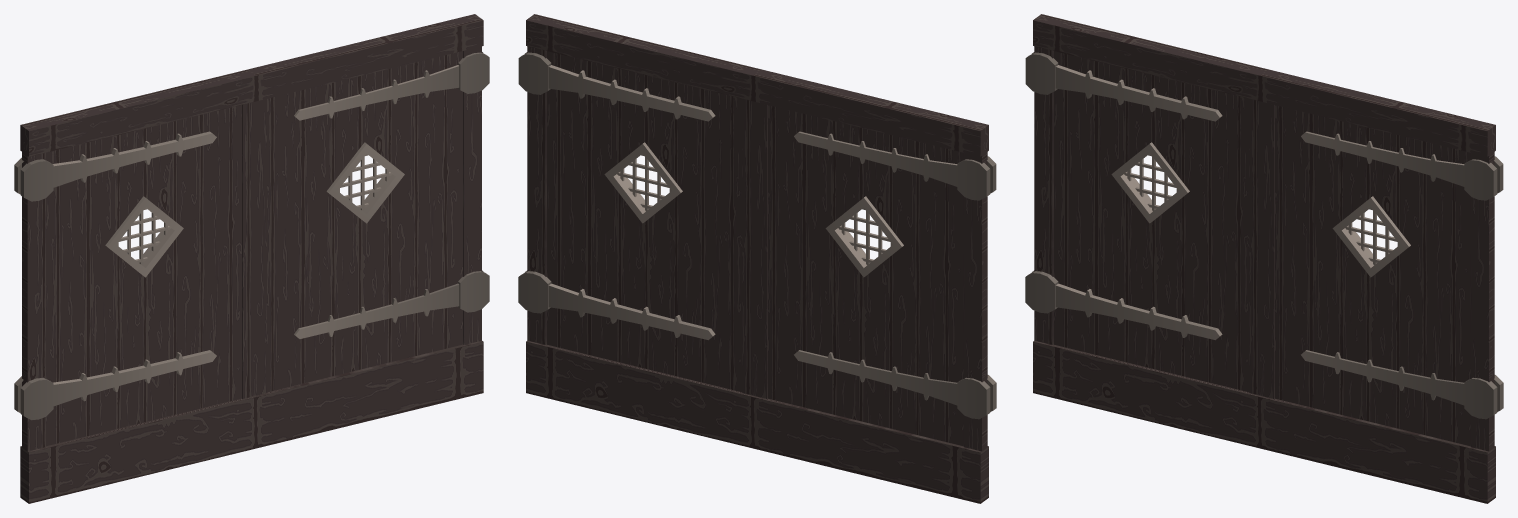
Rendered from guild_hall_doors.glb.
3 renders of one model, left to right at view 1: azimuth 30°, elevation 25°; view 2: azimuth 150°, elevation 25°; view 3: azimuth 330°, elevation 25°, orthographic.
Parts seen in each view (by area): view 1: door_left, door_left.002, door_left.001, door_left.003; view 2: door_left, door_left.002, door_left.003, door_left.001; view 3: door_left.002, door_left, door_left.001, door_left.003.
Boxes of the visible parts, <box> form: door_left: <box>20,69,256,503</box>; door_left.002: <box>248,14,483,448</box>; door_left.001: <box>14,131,216,420</box>; door_left.003: <box>294,52,489,338</box>; door_left: <box>753,69,988,503</box>; door_left.002: <box>526,14,761,448</box>; door_left.003: <box>518,52,715,340</box>; door_left.001: <box>794,131,996,419</box>; door_left.002: <box>1260,69,1495,503</box>; door_left: <box>1033,14,1268,448</box>; door_left.001: <box>1025,52,1222,340</box>; door_left.003: <box>1301,131,1503,419</box>.
Bounding box in the file's own units: 3.8 × 2.9 × 0.1574.
2 materials, 2 textured.
